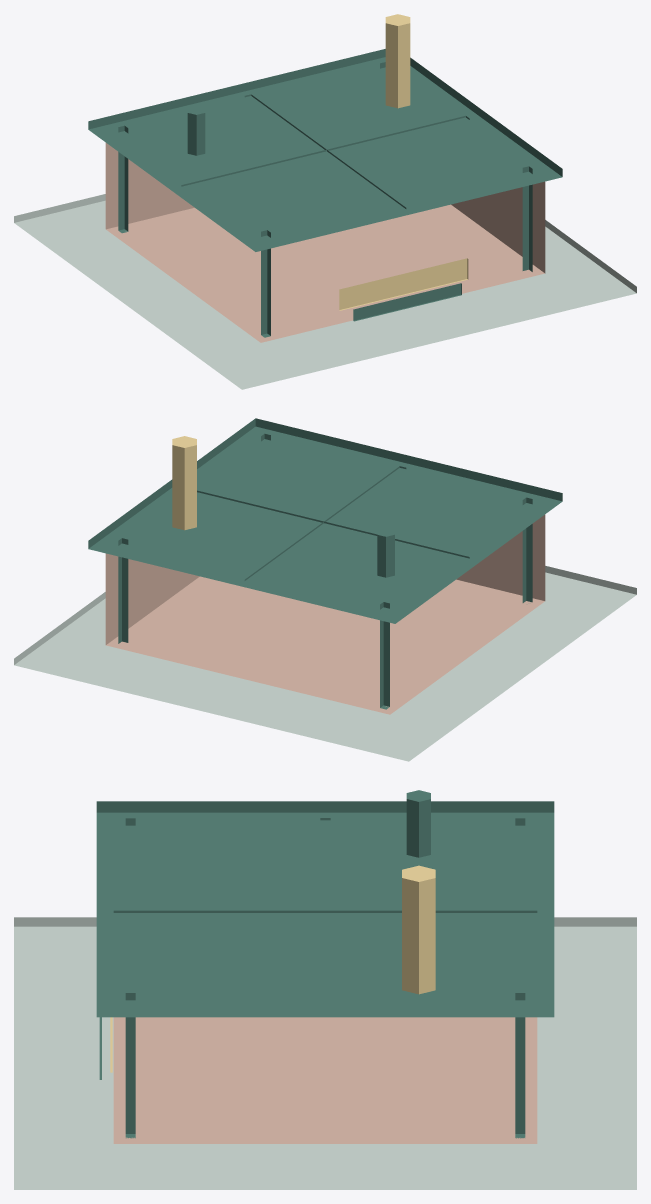
File: smokehouse.glb
3 views of the same model, one above another, from view 1: azimuth 30°, elevation 25°; view 2: azimuth 150°, elevation 25°; view 3: azimuth 270°, elevation 25° (orthographic). The views are drawn at different scales.
Visible parts, largest first — view 1: Roof, Walls, Foundation, Details, Frame; view 2: Roof, Walls, Foundation, Frame, Details; view 3: Roof, Foundation, Walls, Details, Frame.
Part boxes in pixels (x1,y1,x2,y2): Roof: [88, 49, 562, 251]; Walls: [105, 143, 545, 342]; Foundation: [14, 194, 636, 389]; Details: [187, 14, 468, 321]; Frame: [118, 62, 532, 337]; Roof: [88, 418, 562, 623]; Walls: [105, 514, 545, 714]; Foundation: [14, 566, 636, 761]; Frame: [118, 433, 532, 709]; Details: [172, 436, 394, 577]; Roof: [96, 801, 554, 1017]; Foundation: [14, 917, 636, 1189]; Walls: [113, 1017, 537, 1143]; Details: [99, 790, 435, 1079]; Frame: [113, 818, 537, 1138].
Bounding box in the file's own units: 40 × 18.1 × 40.
